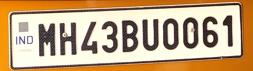0: (181, 15, 200, 51), (161, 17, 180, 51)
1: (222, 13, 237, 49)
3: (99, 19, 120, 55)
4: (80, 20, 99, 57)
6: (202, 13, 219, 48)
B: (122, 18, 141, 56)
H: (57, 19, 78, 56)
M: (36, 21, 58, 58)
U: (141, 16, 161, 52)
